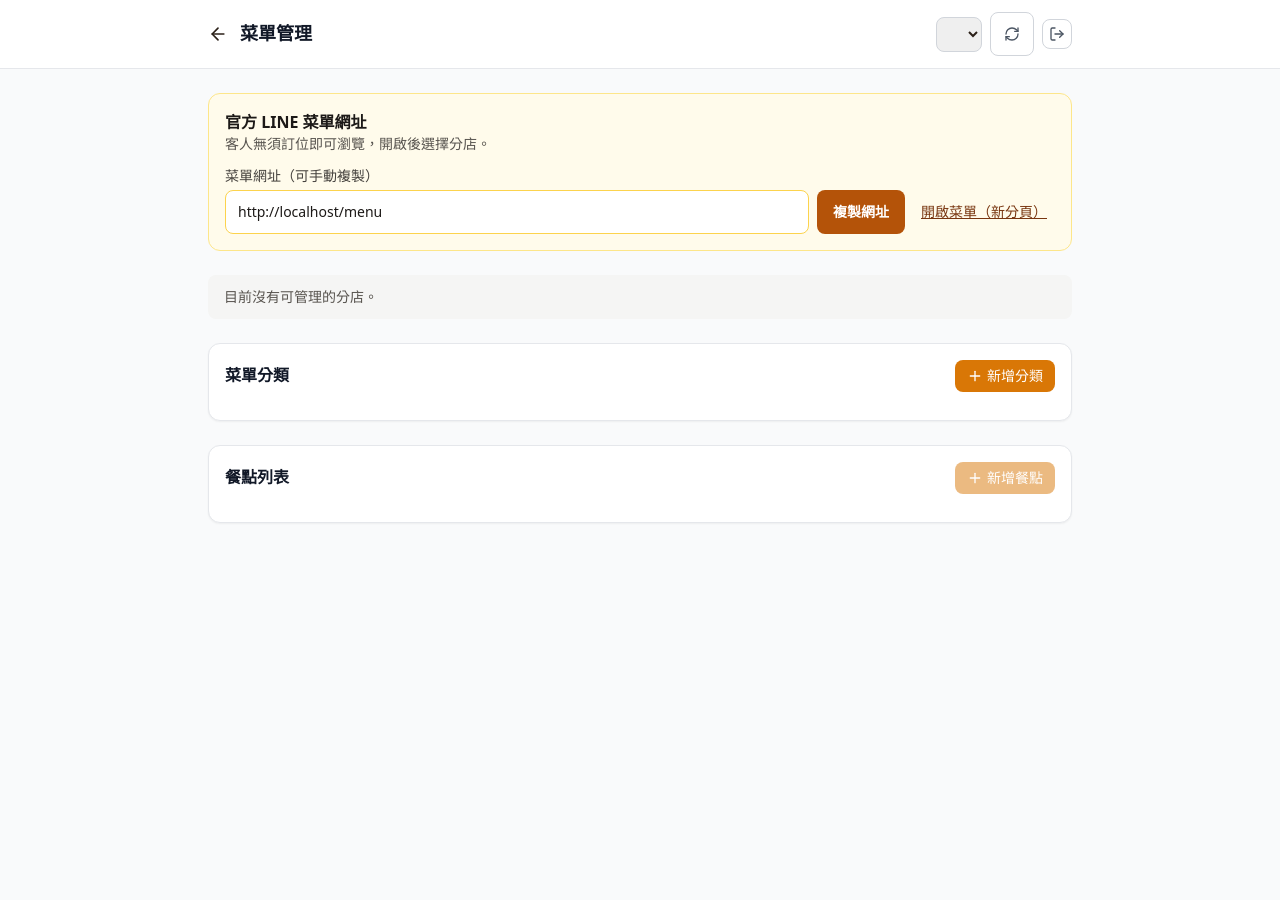
Test: 菜單網址的複製回饋 › reject 時顯示失敗並保留手動複製及重試
The width and height of the screenshot is (1280, 900).
Click the button "複製網址" at (861, 212), box [817,190,905,234]
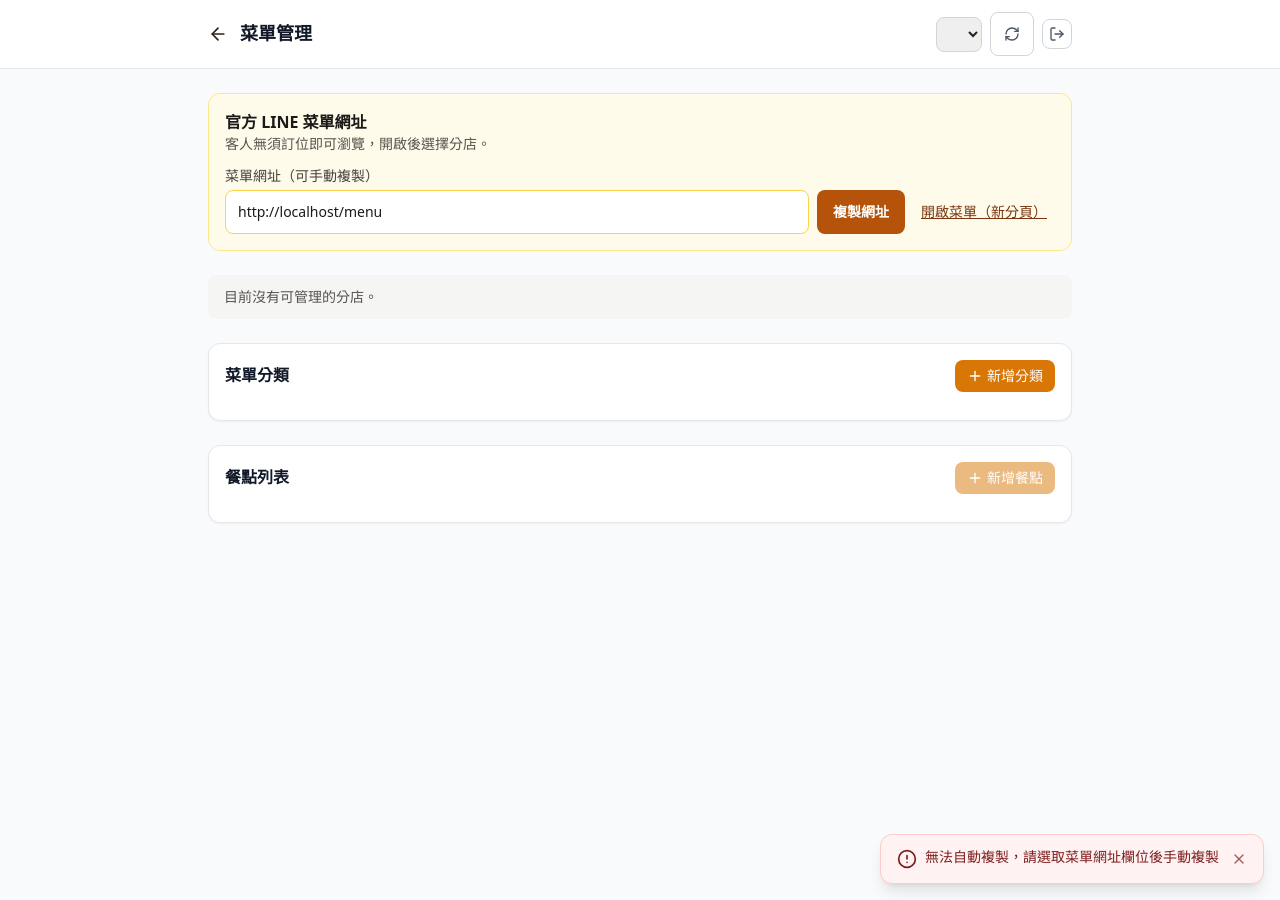
expect the text "無法自動複製，請選取菜單網址欄位後手動複製" is shown: met, box [925,847,1219,867]
